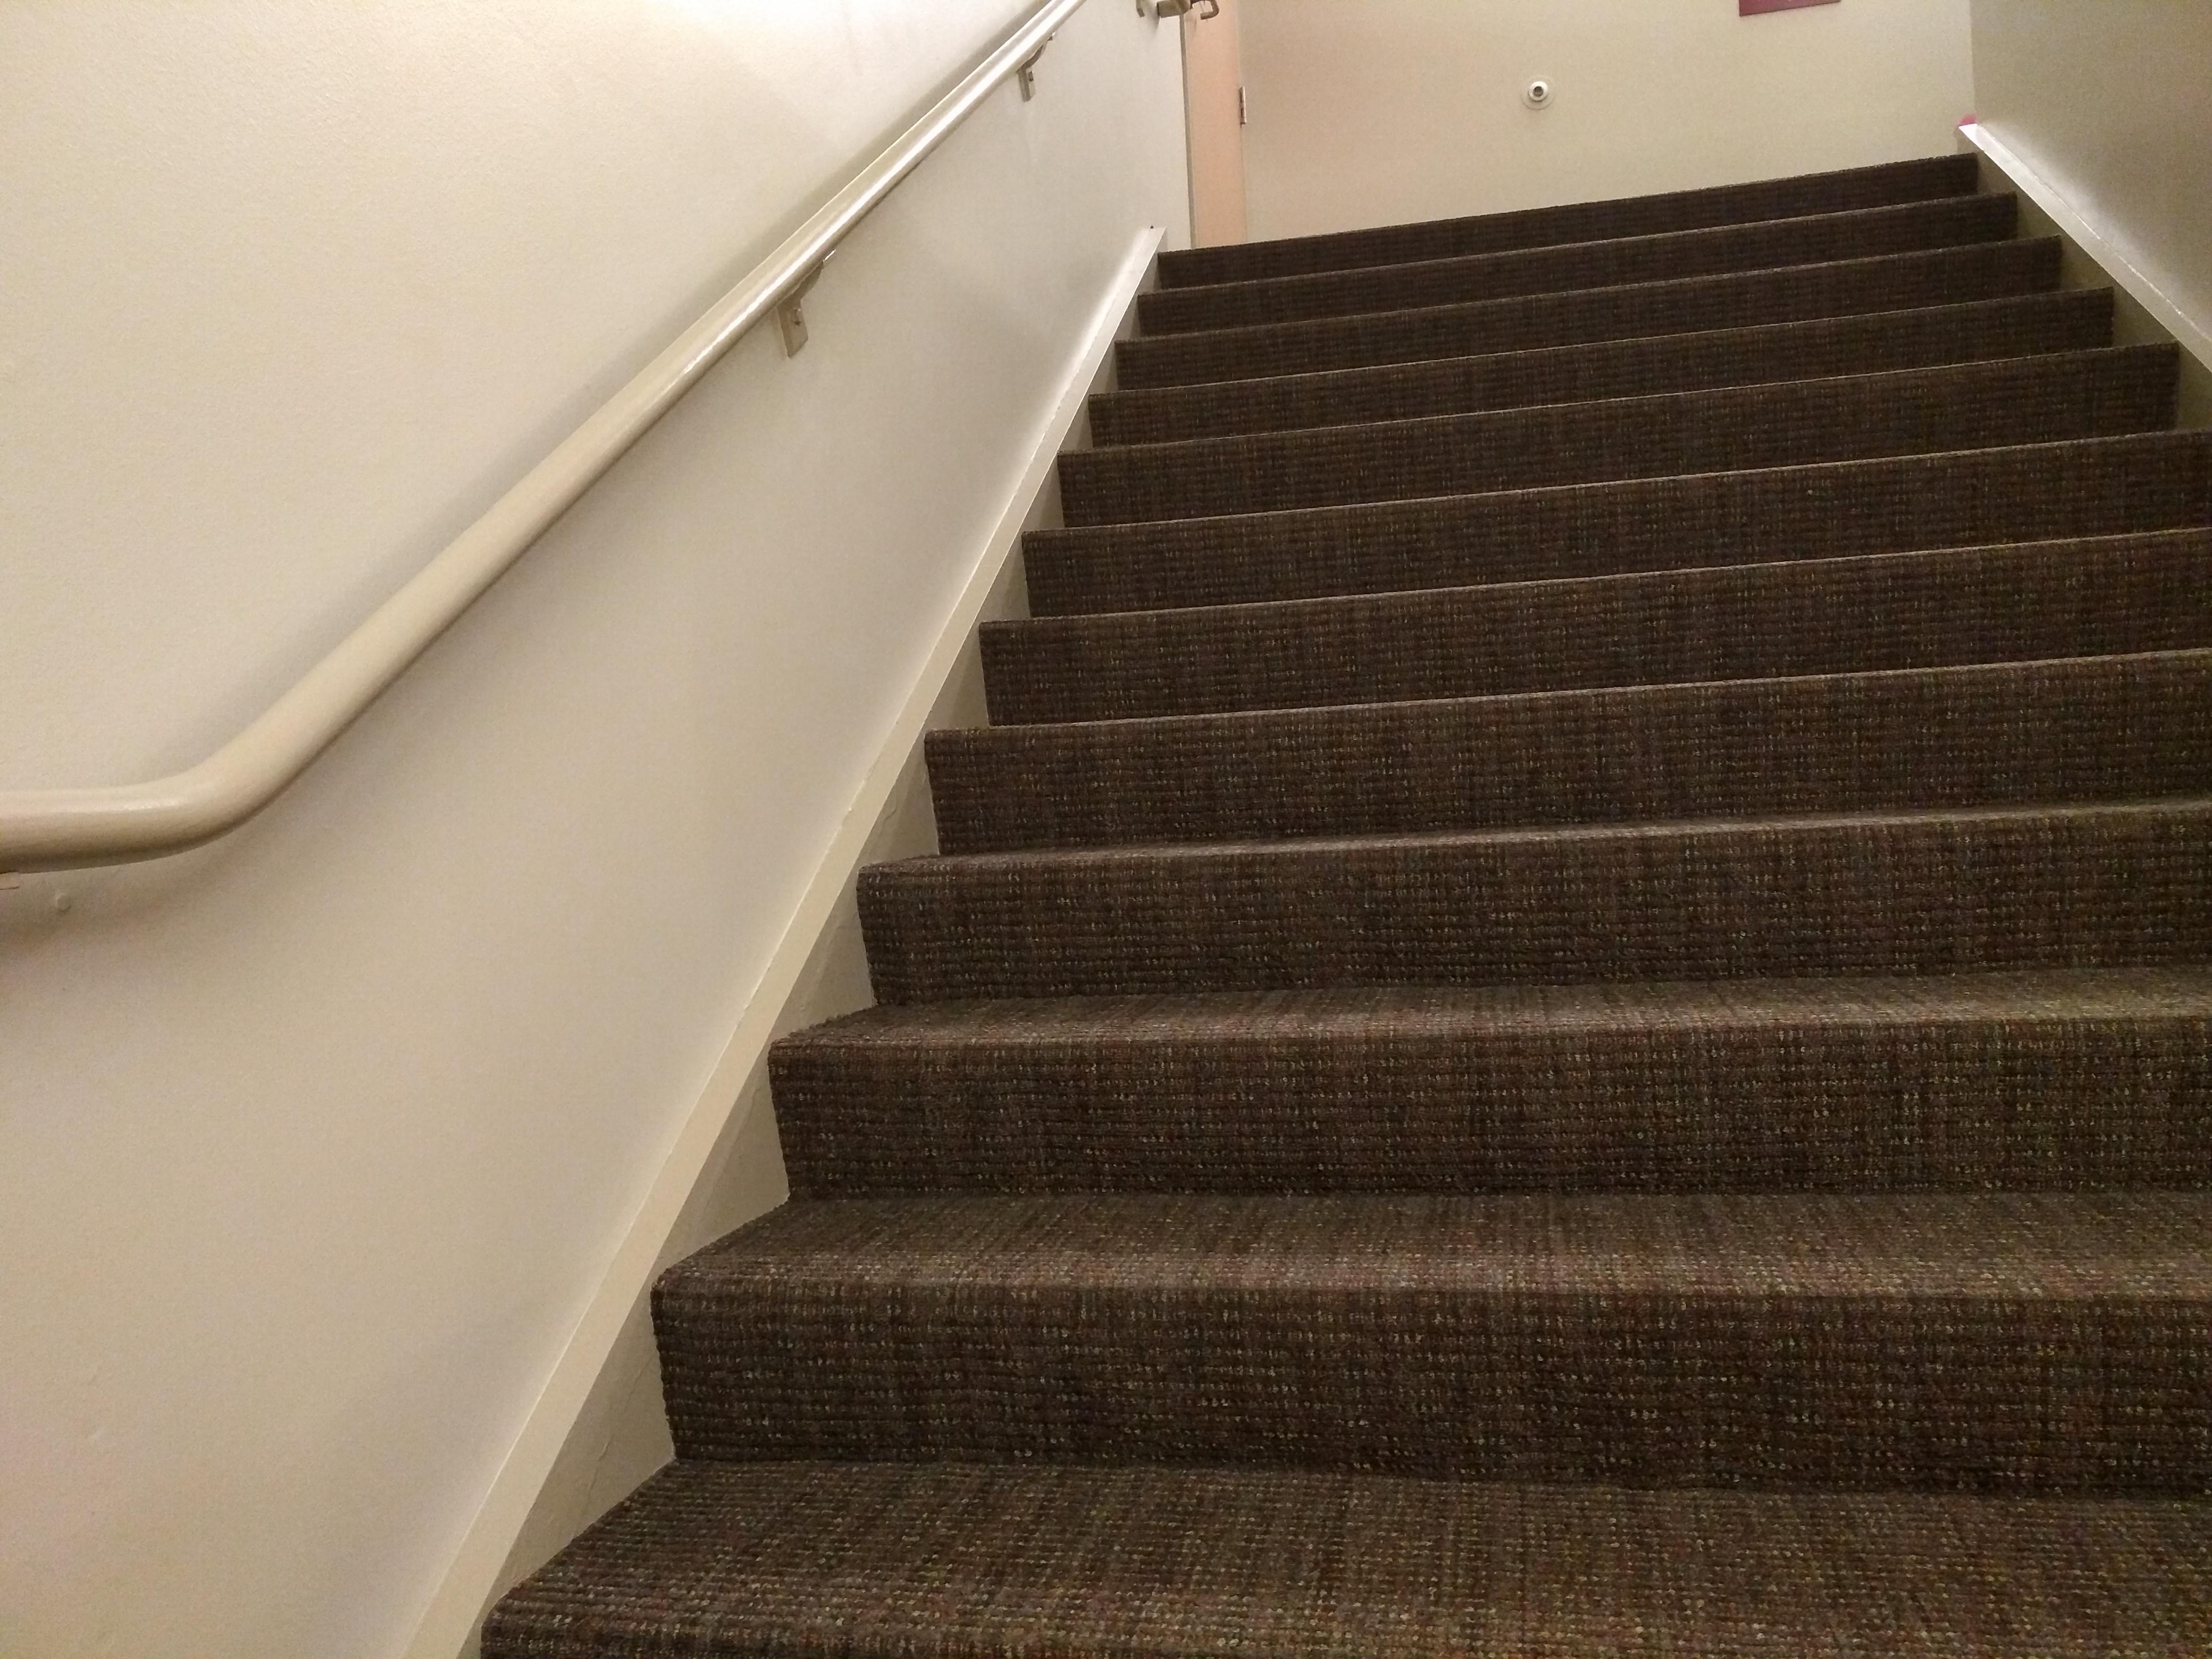stairs_up: (399, 145, 2212, 1659)
